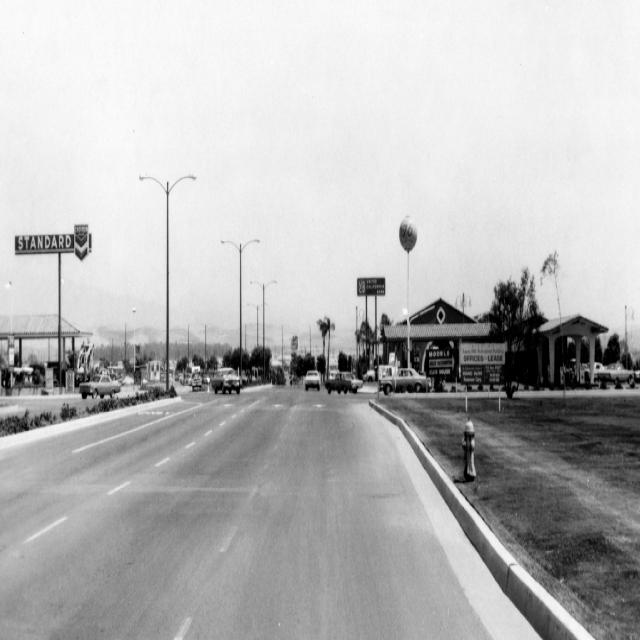car: (378, 366, 429, 393), (211, 365, 241, 393), (326, 372, 366, 393), (80, 374, 120, 393), (304, 368, 320, 387)
